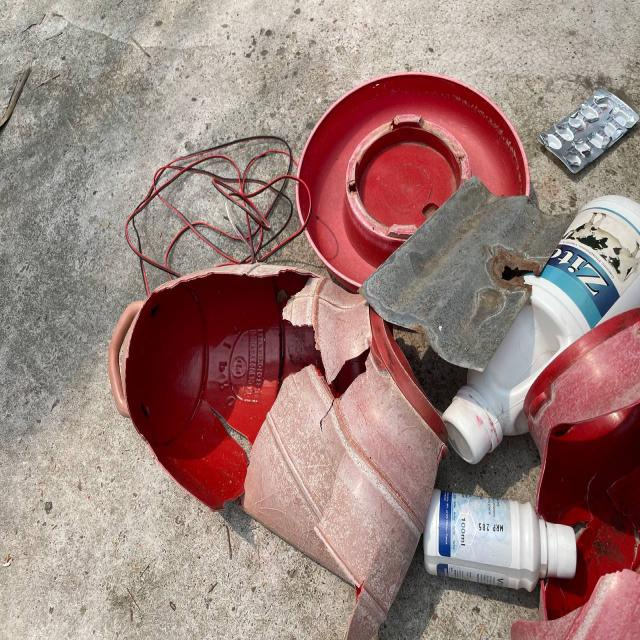Cable: (88, 142, 294, 261)
Medical Waste: (536, 72, 640, 177)
Metal: (385, 158, 554, 367)
Plastics: (55, 287, 360, 640), (376, 373, 640, 640), (298, 95, 526, 194)
